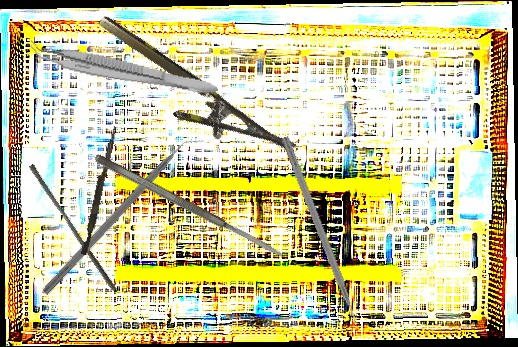Chopper: (40, 127, 207, 305), (270, 135, 363, 337)
Needle Holder: (79, 12, 299, 184)
Pusher: (24, 163, 122, 292), (80, 125, 118, 256)
Spatula Surgical: (92, 151, 287, 263)
Tissue Forceps: (26, 39, 221, 98)
